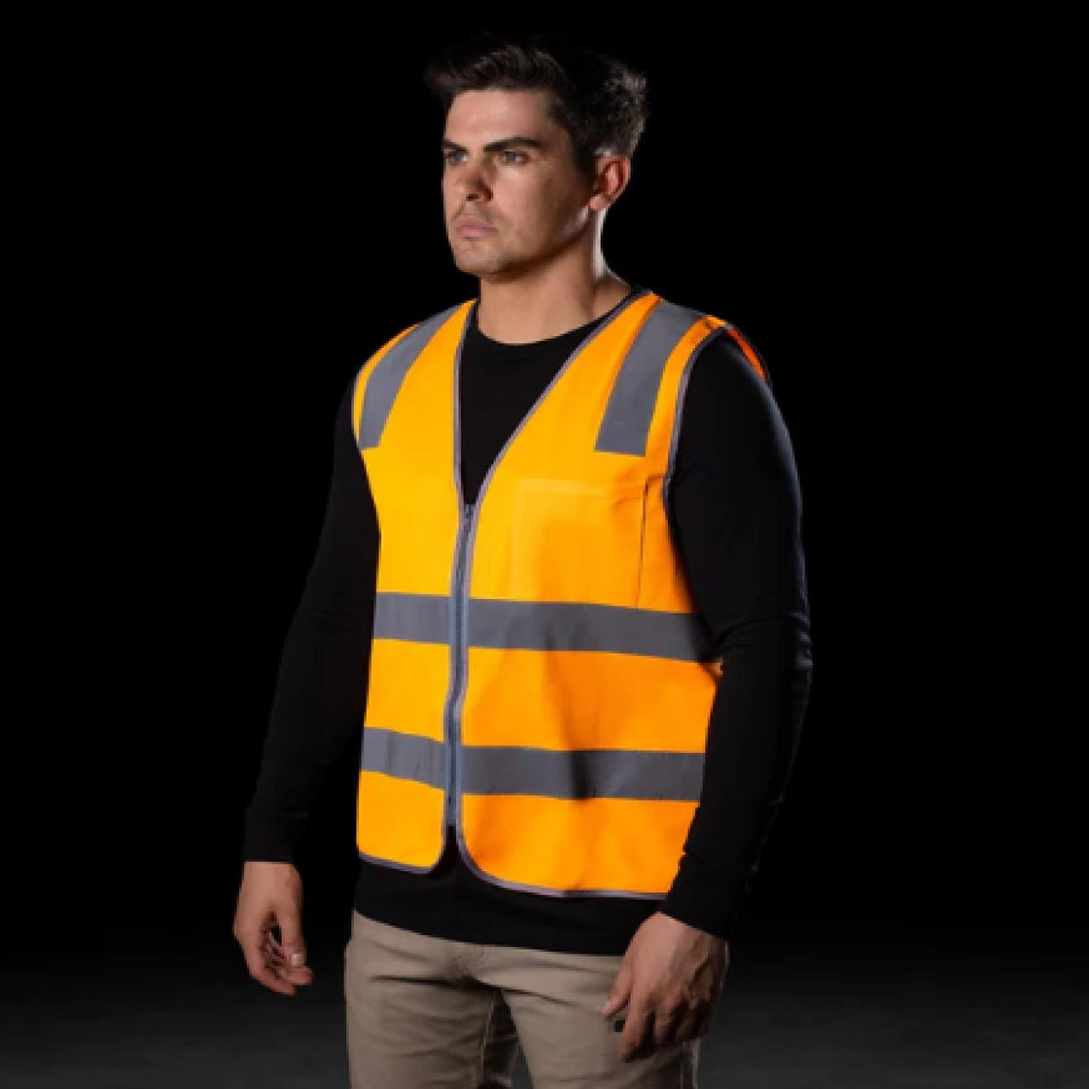Person: (226, 32, 831, 1089)
Safety_Vest: (328, 280, 784, 940)
